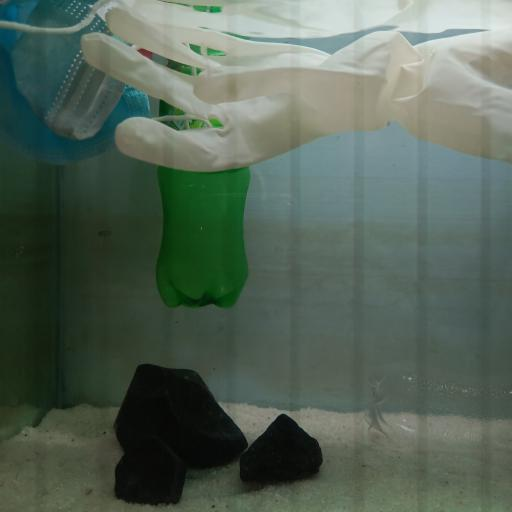bottle_cap: (137, 49, 154, 60)
glove: (80, 6, 512, 173)
mask: (4, 2, 158, 169)
plastic_bottle: (155, 6, 251, 312), (362, 360, 512, 470)
